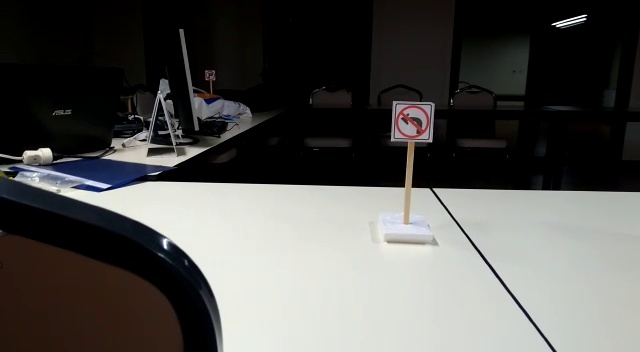sola_donulmez: (391, 99, 437, 142)
